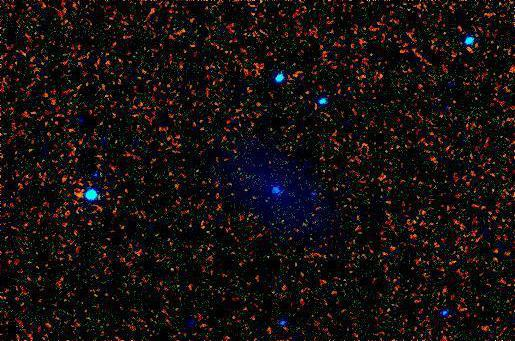star: (63, 181, 93, 211)
